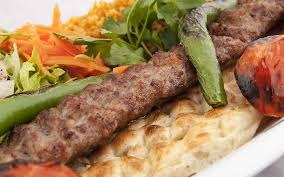kebap: (0, 46, 196, 162)
